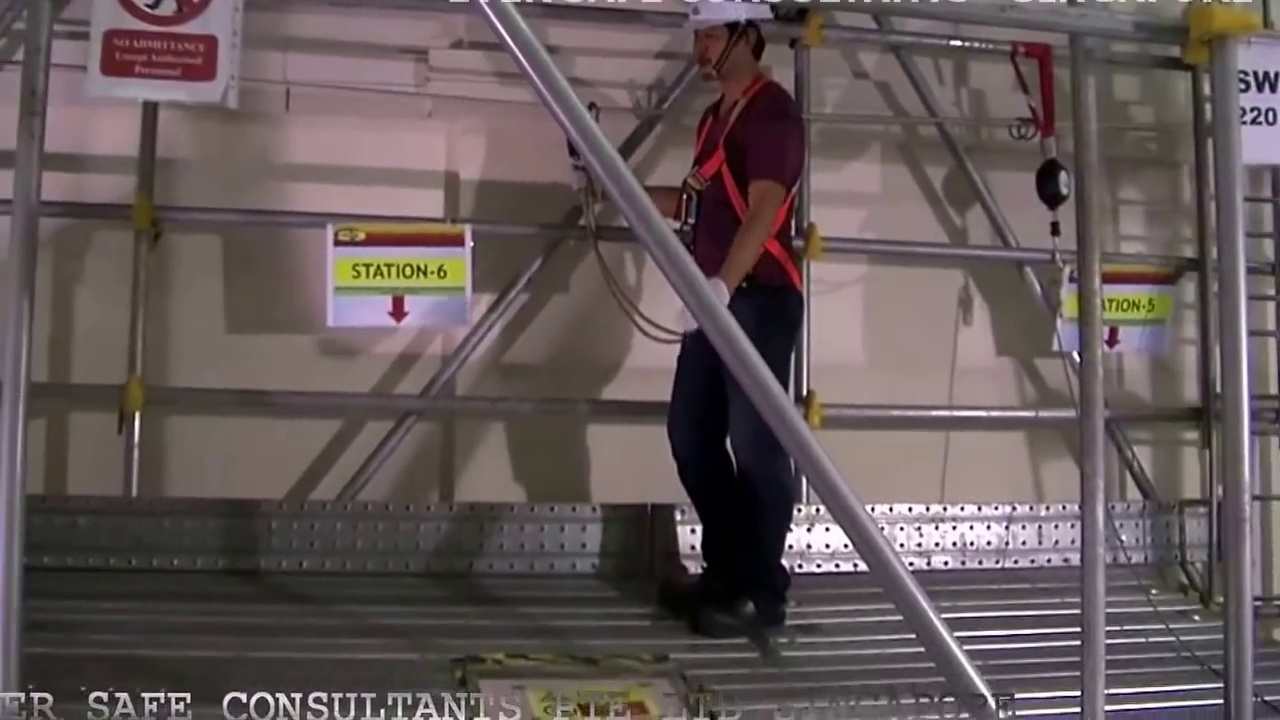harness: (687, 100, 743, 259)
helmet: (676, 1, 777, 25)
leash: (579, 225, 664, 351)
